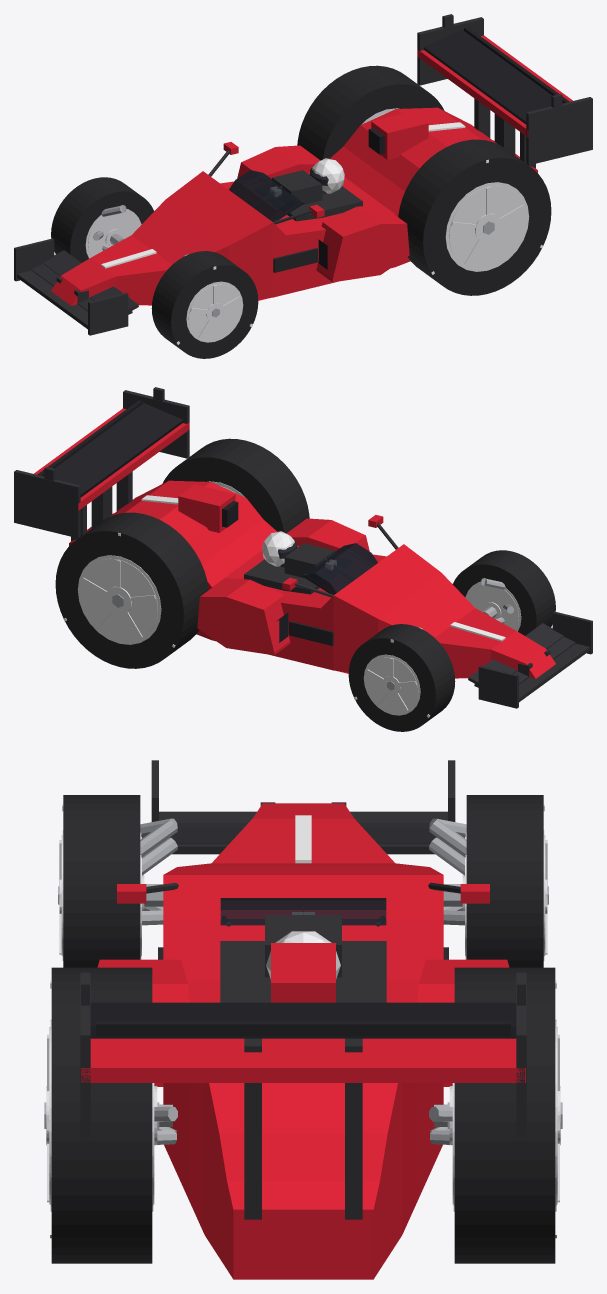
The model's file is race_car.glb.
3 renders of one model, top to bottom at view 1: azimuth 30°, elevation 25°; view 2: azimuth 150°, elevation 25°; view 3: azimuth 270°, elevation 25°, orthographic. The views are drawn at different scales.
Parts seen in each view (by area): view 1: Body, Tire_Rear_R, Tire_Rear_L, Tire_Front_R, SidePod_R, Wing_Flap, Tire_Front_L, Rim_Rear_R, Wing_Endplate_R, Windscreen, Rim_Front_R, Airbox (+18 smaller); view 2: Body, Tire_Rear_L, Tire_Rear_R, Tire_Front_L, SidePod_L, Wing_Flap, Tire_Front_R, Rim_Rear_L, Wing_Endplate_L, Windscreen, Rim_Front_L, Airbox (+18 smaller); view 3: Body, Tire_Rear_L, Tire_Rear_R, Wing_Main, Tire_Front_L, Tire_Front_R, Wing_Flap, Wing_Gurney, Cockpit_Tub, Airbox, Windscreen, Front_Wing (+10 smaller).
Part boxes in pixels (<box>): Body: <box>51,107,537,305</box>; Tire_Rear_R: <box>398,139,551,295</box>; Tire_Rear_L: <box>297,65,444,160</box>; Tire_Front_R: <box>151,251,258,358</box>; SidePod_R: <box>316,205,409,282</box>; Wing_Flap: <box>423,29,552,124</box>; Tire_Front_L: <box>51,177,153,262</box>; Rim_Rear_R: <box>449,185,526,268</box>; Wing_Endplate_R: <box>526,97,592,165</box>; Windscreen: <box>229,170,304,221</box>; Rim_Front_R: <box>188,284,241,340</box>; Airbox: <box>371,111,428,159</box>; Body: <box>69,480,555,678</box>; Tire_Rear_L: <box>55,512,208,668</box>; Tire_Rear_R: <box>162,438,309,533</box>; Tire_Front_L: <box>348,624,455,731</box>; SidePod_L: <box>197,578,290,655</box>; Wing_Flap: <box>54,402,183,497</box>; Tire_Front_R: <box>453,550,555,635</box>; Rim_Rear_L: <box>80,558,157,641</box>; Wing_Endplate_L: <box>14,470,80,538</box>; Windscreen: <box>302,543,377,594</box>; Rim_Front_L: <box>365,657,418,713</box>; Airbox: <box>178,484,235,532</box>; Body: <box>163,803,443,1279</box>; Tire_Rear_L: <box>454,967,555,1263</box>; Tire_Rear_R: <box>51,967,152,1263</box>; Wing_Main: <box>81,1038,525,1082</box>; Tire_Front_L: <box>466,795,543,967</box>; Tire_Front_R: <box>63,795,140,967</box>; Wing_Flap: <box>90,1002,516,1038</box>; Wing_Gurney: <box>96,1020,510,1036</box>; Cockpit_Tub: <box>220,941,386,1002</box>; Airbox: <box>271,943,335,1002</box>; Windscreen: <box>220,898,386,925</box>; Front_Wing: <box>159,811,447,854</box>.
Bounding box in the file's own units: 3.78 × 1.29 × 1.75.
